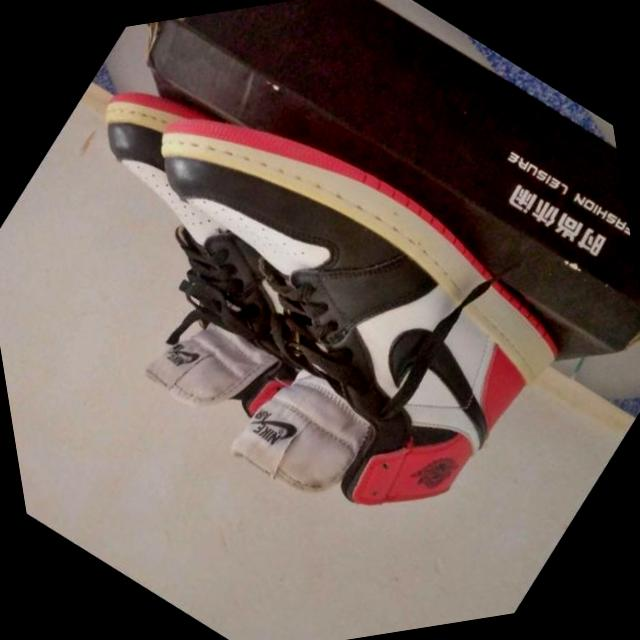nike_fake_jordan: (0, 8, 631, 633), (0, 26, 417, 481)
